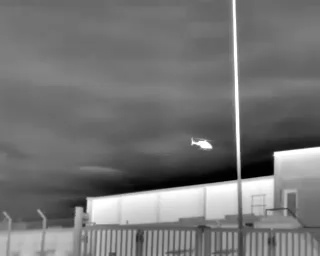HELICOPTER: (187, 132, 217, 156)
